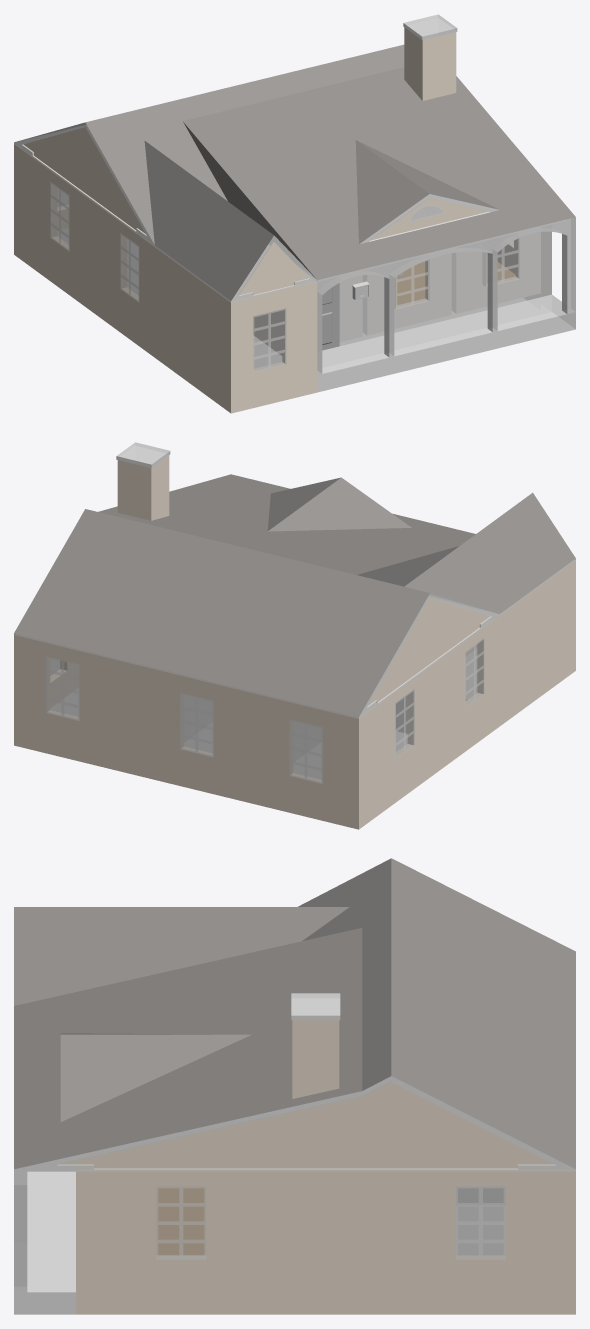
The picture shows the model from 3 angles, top to bottom: view 1: azimuth 30°, elevation 25°; view 2: azimuth 150°, elevation 25°; view 3: azimuth 270°, elevation 25°; orthographic projection. The views are drawn at different scales.
Visible parts, largest first — view 1: Node347, Node295, Node355, Node354, Node293, Node416, Node7, Node414, Node423, Node381, Node411, Node351 (+27 smaller); view 2: Node344, Node301, Node295, Node347, Node354, Node381, Node351, Node394, Node349, Node410, Node393, Node319 (+10 smaller); view 3: Node294, Node347, Node344, Node370, Node353, Node349, Node355, Node7, Node411, Node369, Node389, Node15 (+12 smaller).
Part boxes in pixels (x1,y1,x2,y2): Node347: (183, 67, 575, 279); Node295: (14, 144, 230, 413); Node355: (85, 44, 404, 244); Node354: (144, 141, 273, 300); Node293: (339, 231, 551, 345); Node416: (231, 282, 317, 413); Node7: (318, 312, 573, 391); Node414: (317, 312, 575, 392); Node423: (317, 219, 575, 374); Node381: (23, 127, 145, 233); Node411: (322, 294, 561, 368); Node351: (355, 140, 428, 243); Node344: (14, 509, 429, 717); Node301: (14, 635, 358, 829); Node295: (359, 560, 575, 829); Node347: (98, 474, 475, 574); Node354: (404, 492, 575, 613); Node381: (368, 598, 490, 705); Node351: (268, 477, 411, 531); Node394: (117, 460, 151, 520); Node349: (267, 477, 340, 530); Node410: (357, 546, 459, 586); Node393: (151, 455, 169, 520); Node319: (184, 694, 212, 742); Node294: (76, 1171, 575, 1314); Node347: (14, 928, 362, 1169); Node344: (391, 858, 575, 1168); Node370: (59, 1082, 554, 1168); Node353: (14, 907, 349, 1005); Node349: (60, 1034, 251, 1121); Node355: (298, 858, 391, 1090); Node7: (14, 1172, 75, 1313); Node411: (27, 1171, 75, 1292); Node369: (15, 1076, 575, 1169); Node389: (292, 1020, 339, 1098); Node15: (456, 1206, 505, 1255).
Bounding box in the file's own units: 372 × 232 × 405.
